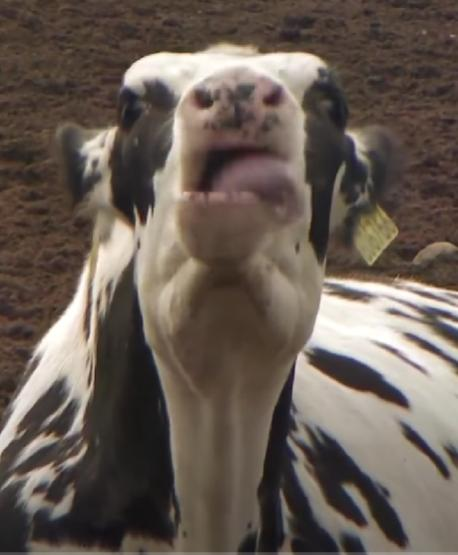cow: (0, 51, 458, 555)
